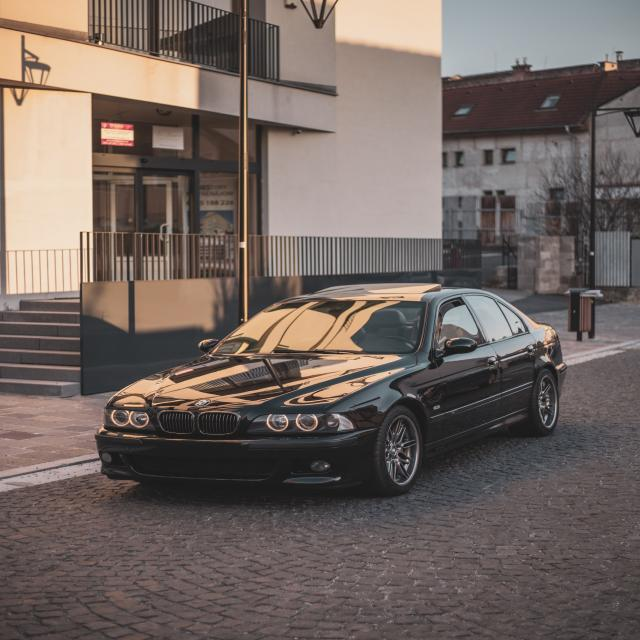Glass: (218, 295, 432, 363)
